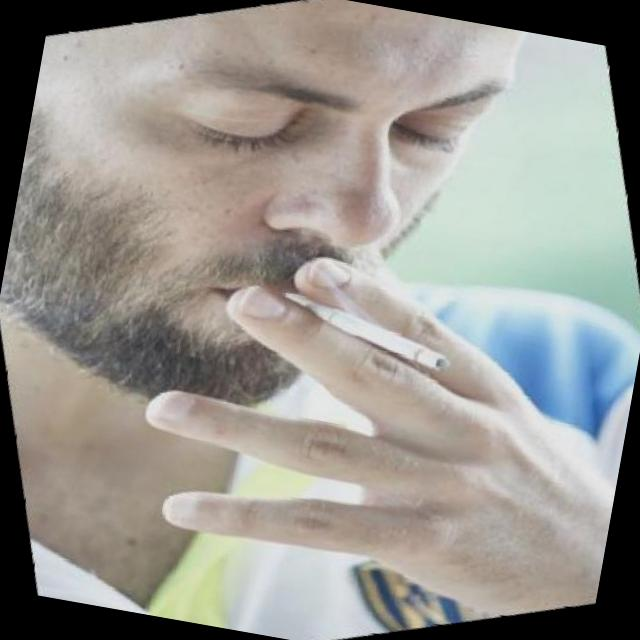smoke: (256, 243, 467, 422)
